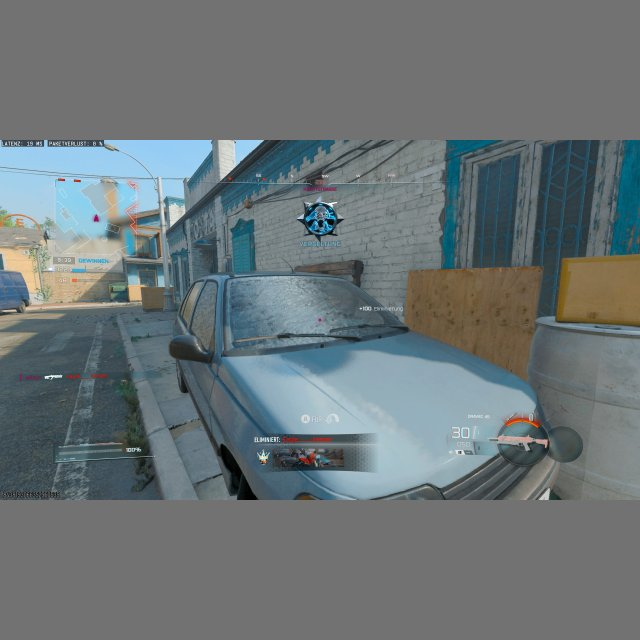player: (301, 200, 342, 240)
